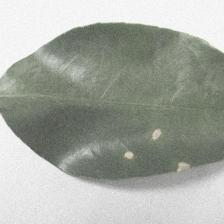canker: (106, 114, 196, 174)
